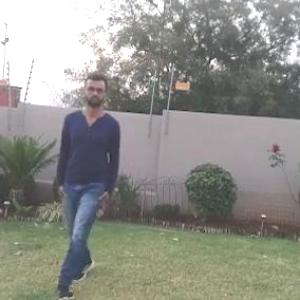follow: (63, 59, 151, 299)
